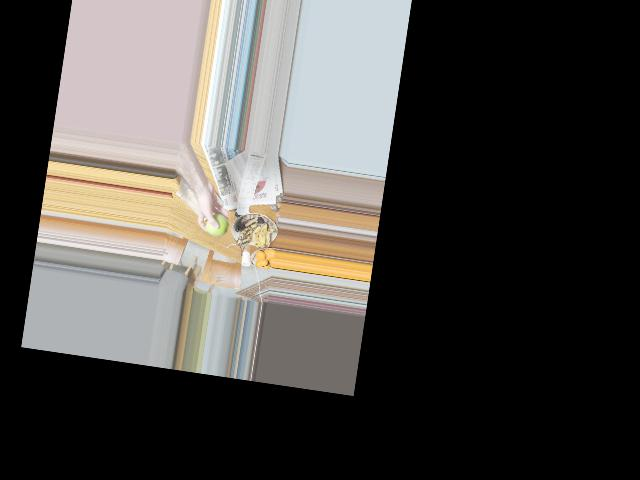apple: (204, 210, 230, 240)
